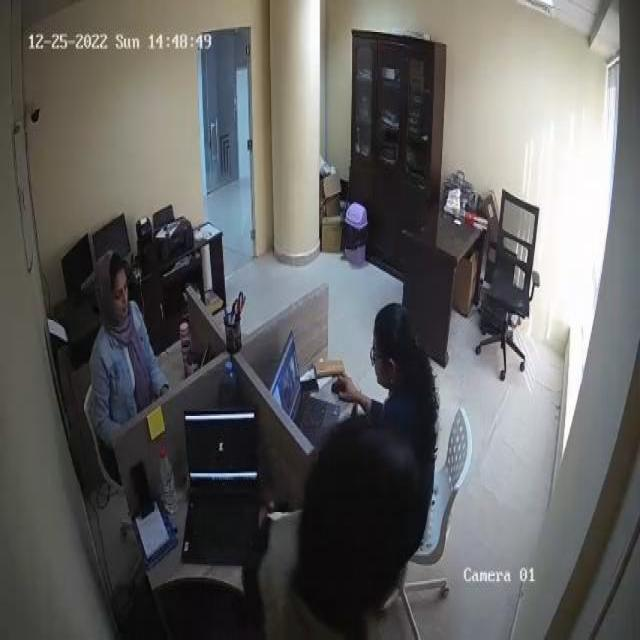bare_hand: (330, 369, 370, 411)
